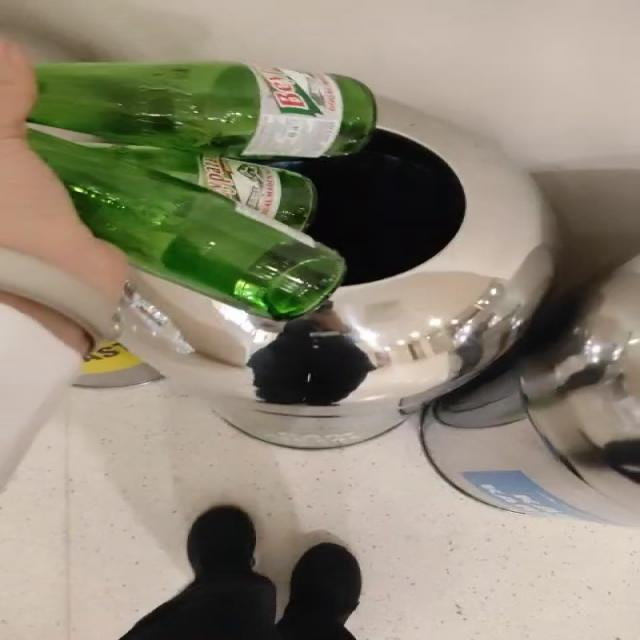bin: (133, 98, 553, 448)
glass: (28, 61, 376, 320)
